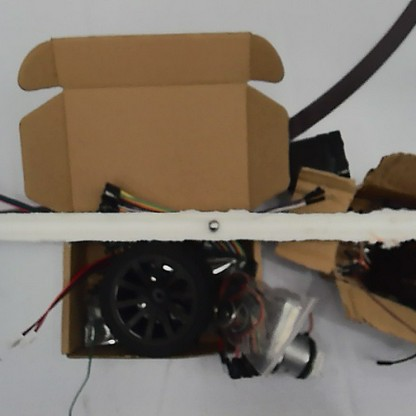ironball: (203, 216, 220, 233)
